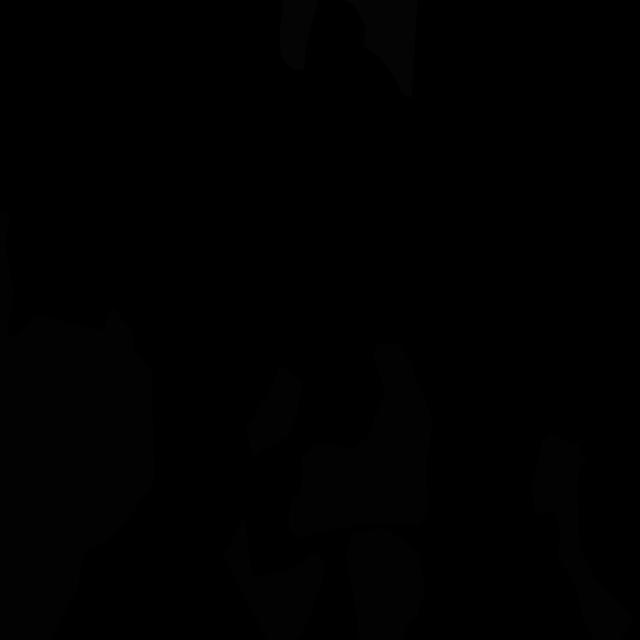cardboard: (0, 210, 155, 640), (288, 343, 434, 538), (532, 431, 634, 640), (222, 514, 324, 640), (346, 528, 426, 640), (246, 365, 302, 457)
soft_plastic: (280, 0, 418, 99)
